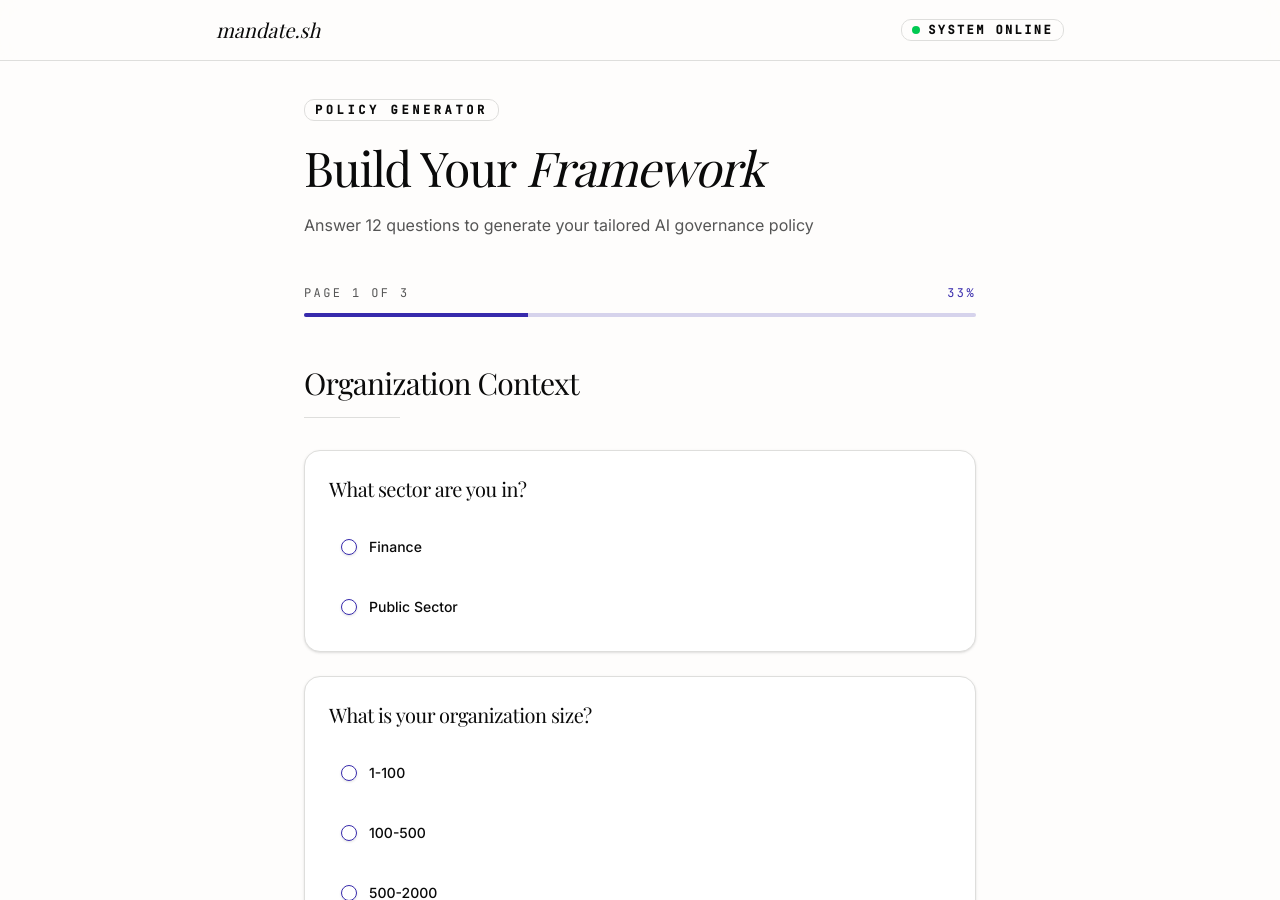
GeneratePage - Questionnaire Form › Form Submission › disables Generate button while loading
Note: Navigate to final page
Click the radio button named "finance" next to "Finance". click: (349, 547)
box: [341,539,357,555]
(page scrolled)
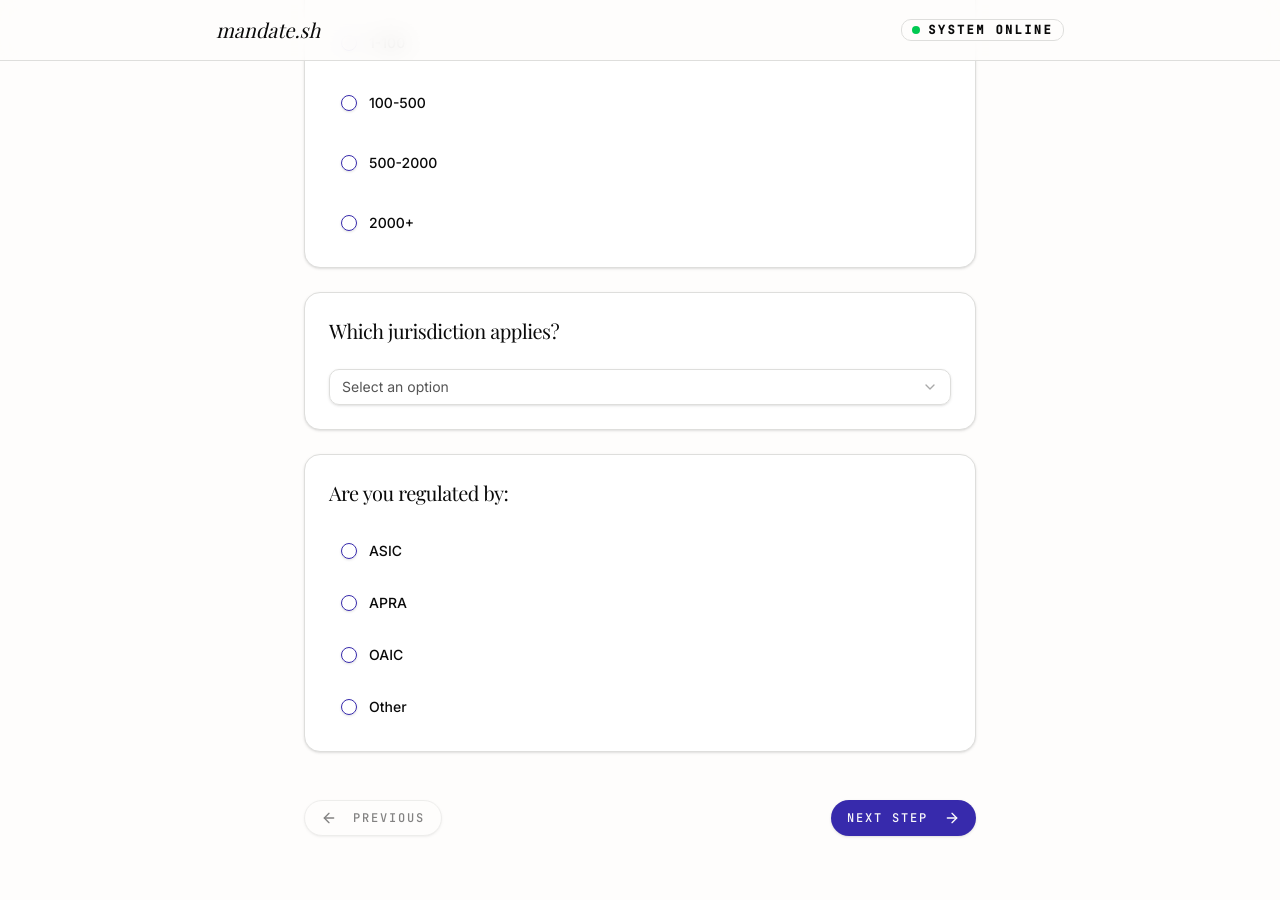
Click the button "Next Step". click: (904, 818)
box: [831,800,976,836]
(page scrolled)
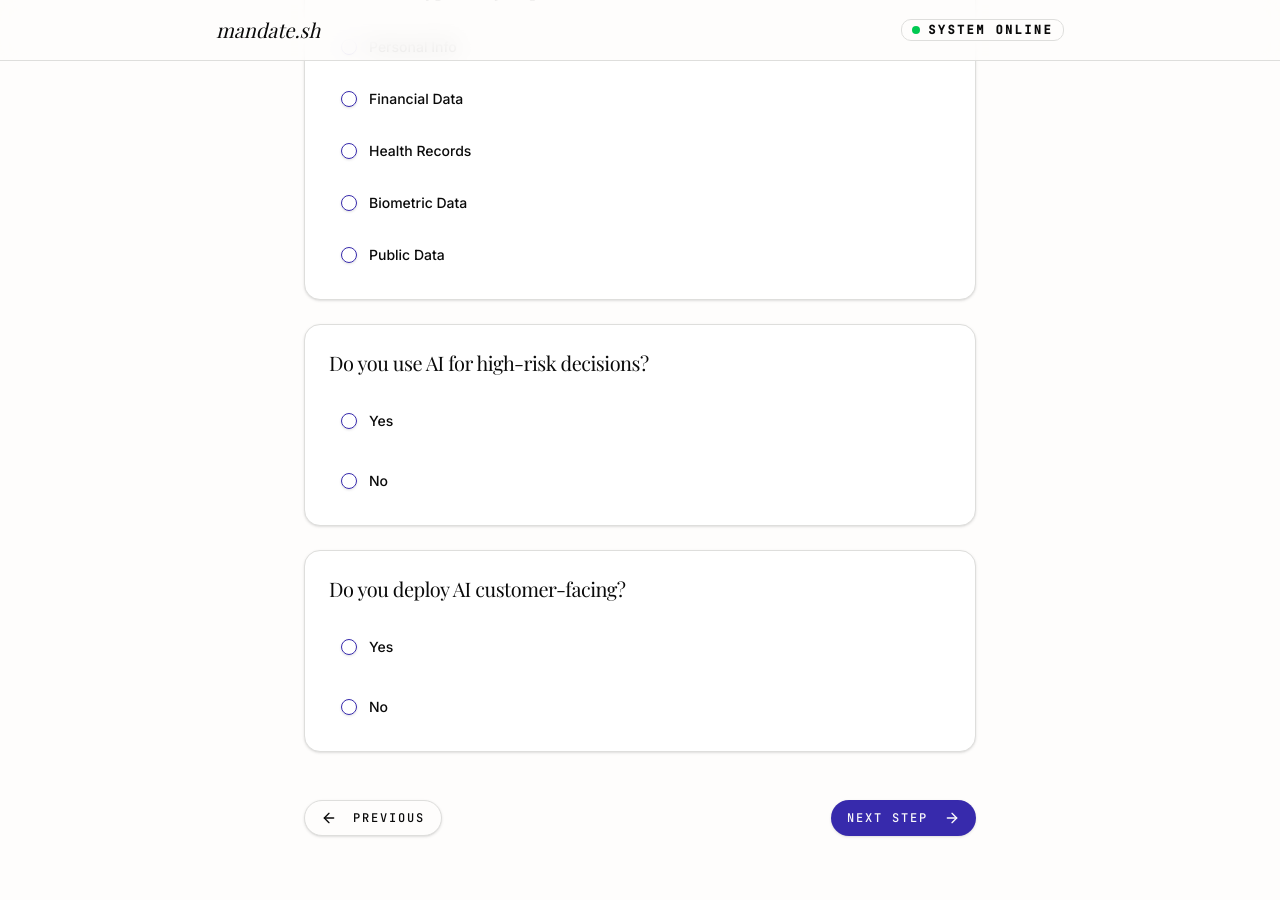
Click the button "Next Step". click: (904, 818)
box: [831,800,976,836]
(page scrolled)
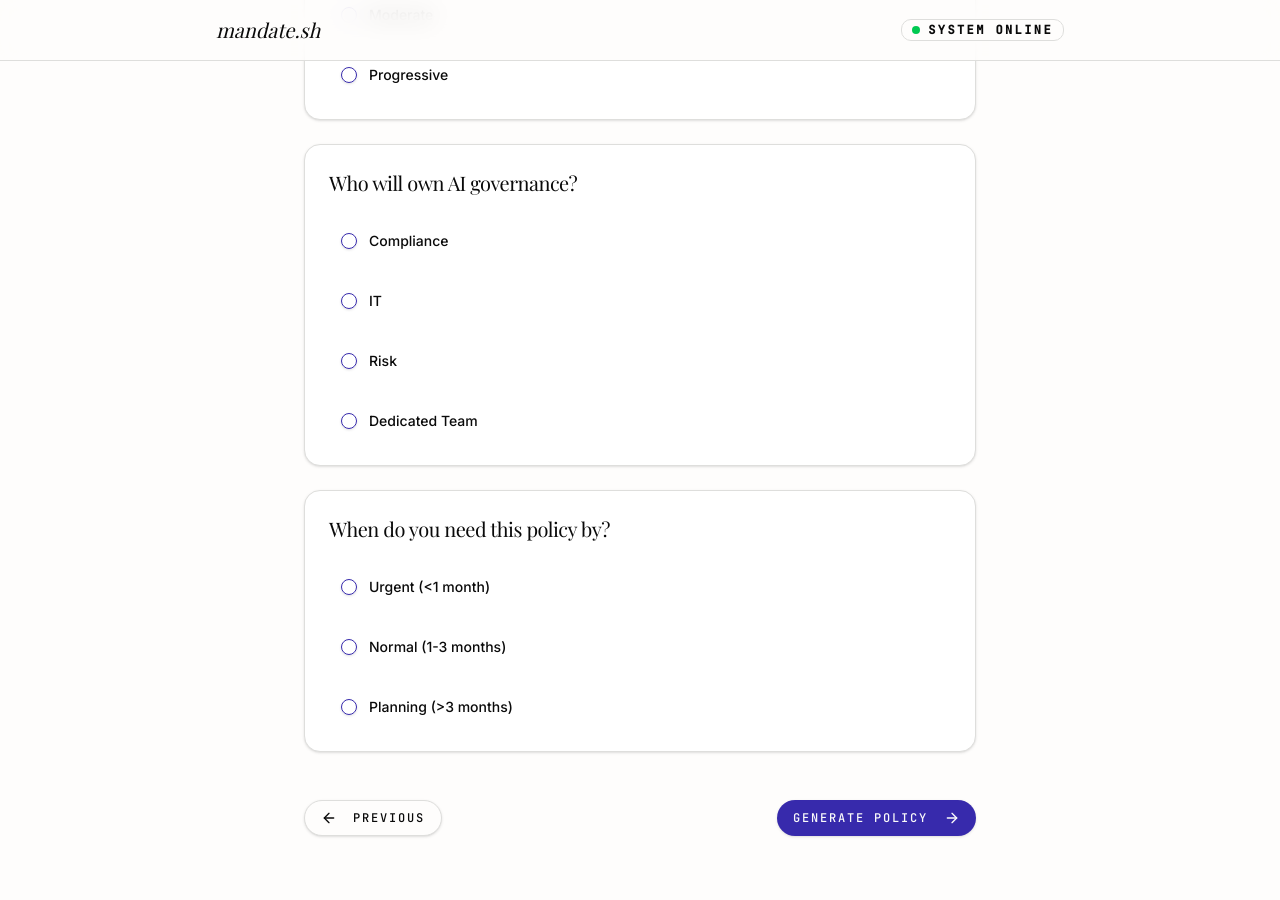
Note: Click Generate
Click the button "Generate Policy". click: (876, 818)
box: [777,800,976,836]
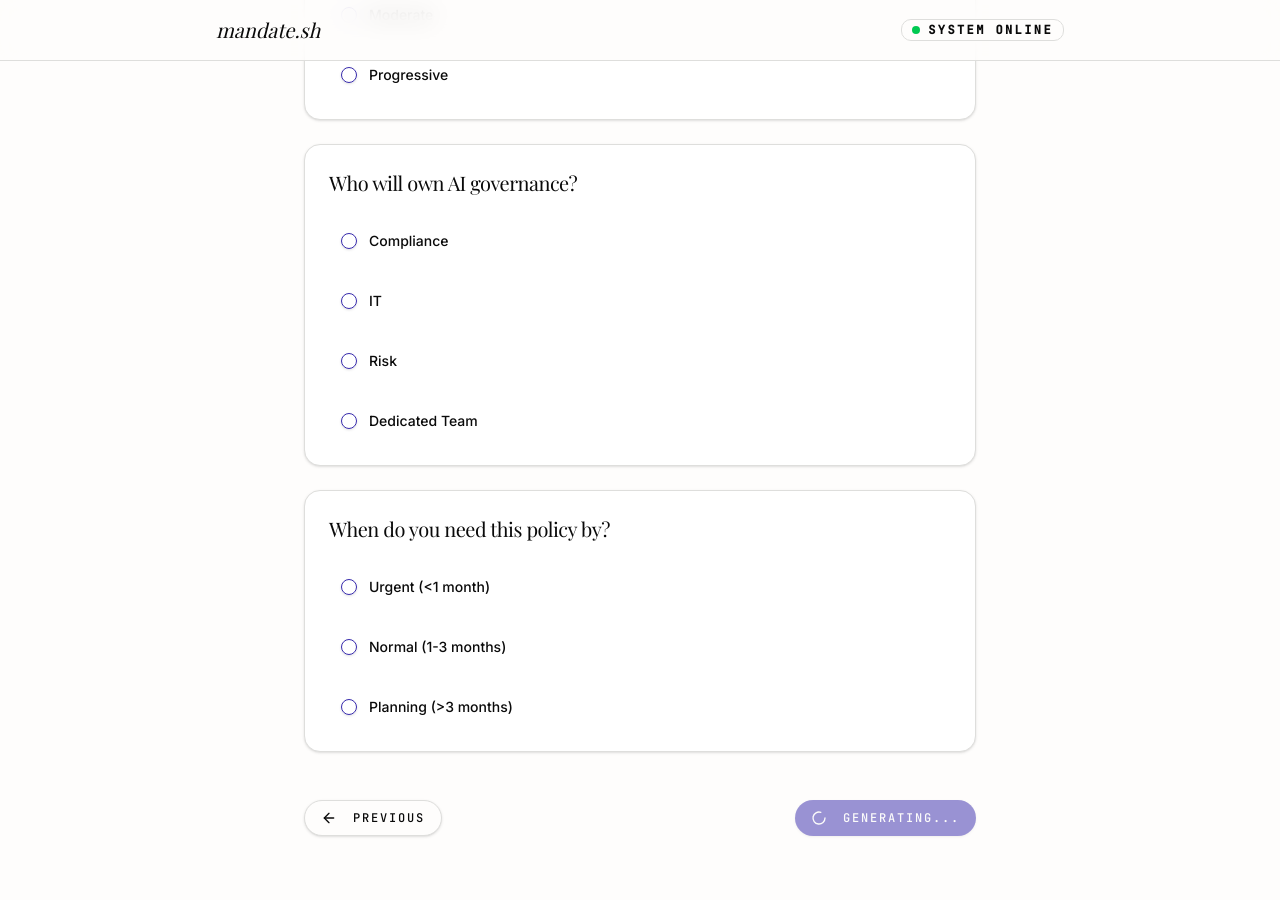
Check: the button named "generate policy" is disabled, box [795,800,976,836]
